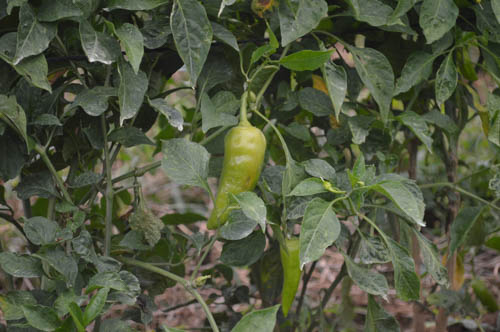ChiliPepper: (210, 127, 264, 233), (278, 239, 304, 313)
